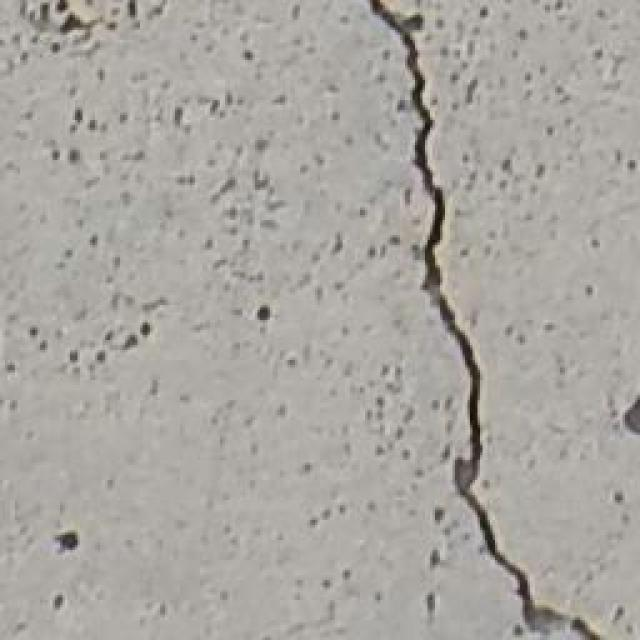concrete-crack: (375, 2, 603, 640)
